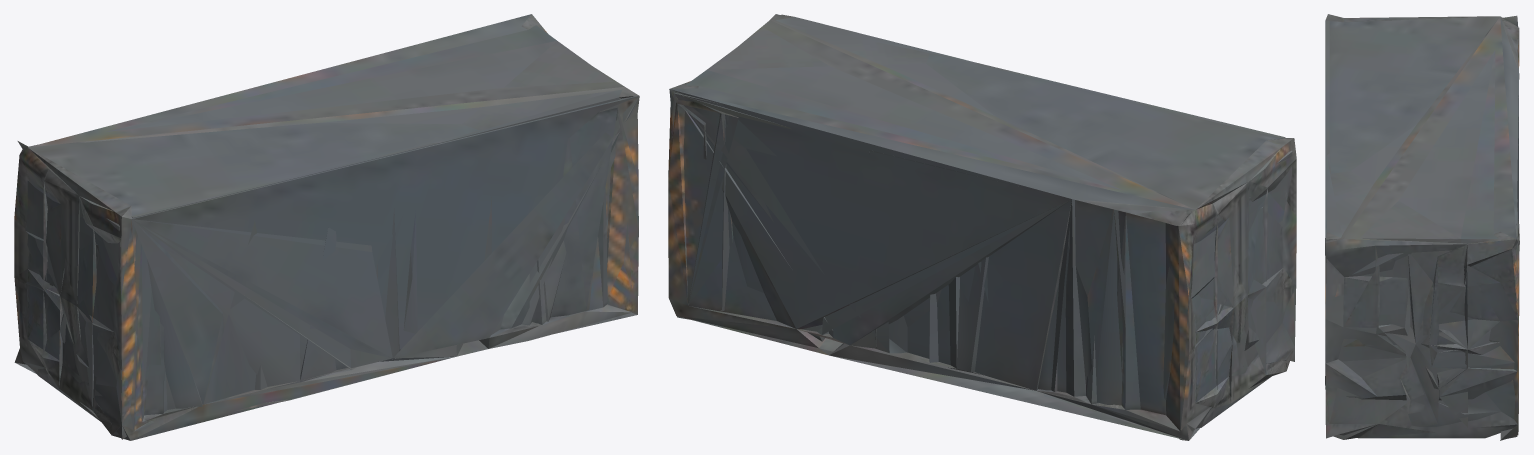
File: container.glb
The picture shows the model from 3 angles, left to right: view 1: azimuth 30°, elevation 25°; view 2: azimuth 150°, elevation 25°; view 3: azimuth 270°, elevation 25°; orthographic projection. The views are drawn at different scales.
Visible parts, largest first — view 1: Mesh_0; view 2: Mesh_0; view 3: Mesh_0.
Boxes of the visible parts, left/top/right/bottom form: Mesh_0: left=14, top=14, right=639, bottom=440; Mesh_0: left=668, top=14, right=1296, bottom=440; Mesh_0: left=1325, top=14, right=1519, bottom=440.
Bounding box in the file's own units: 6 × 2.49 × 2.18.
1 material, 1 textured.
